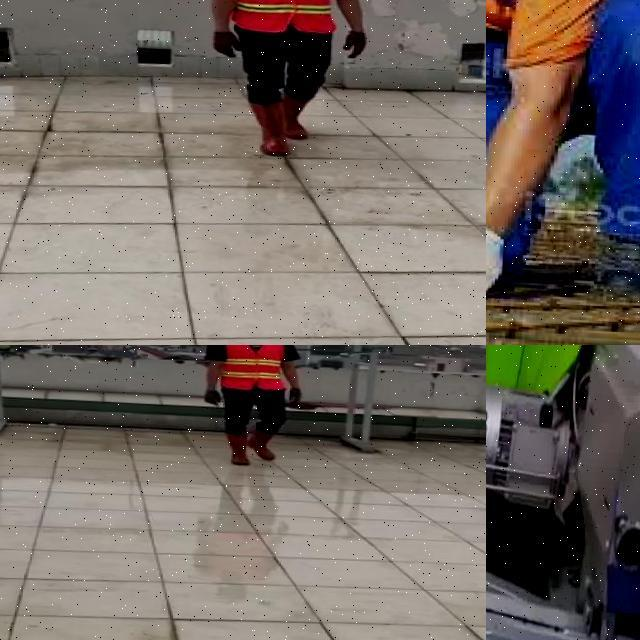boots: (589, 210, 640, 316), (242, 98, 292, 156), (278, 94, 309, 140), (203, 387, 224, 406), (288, 388, 306, 408)
vest: (227, 0, 344, 35), (220, 345, 284, 392)
